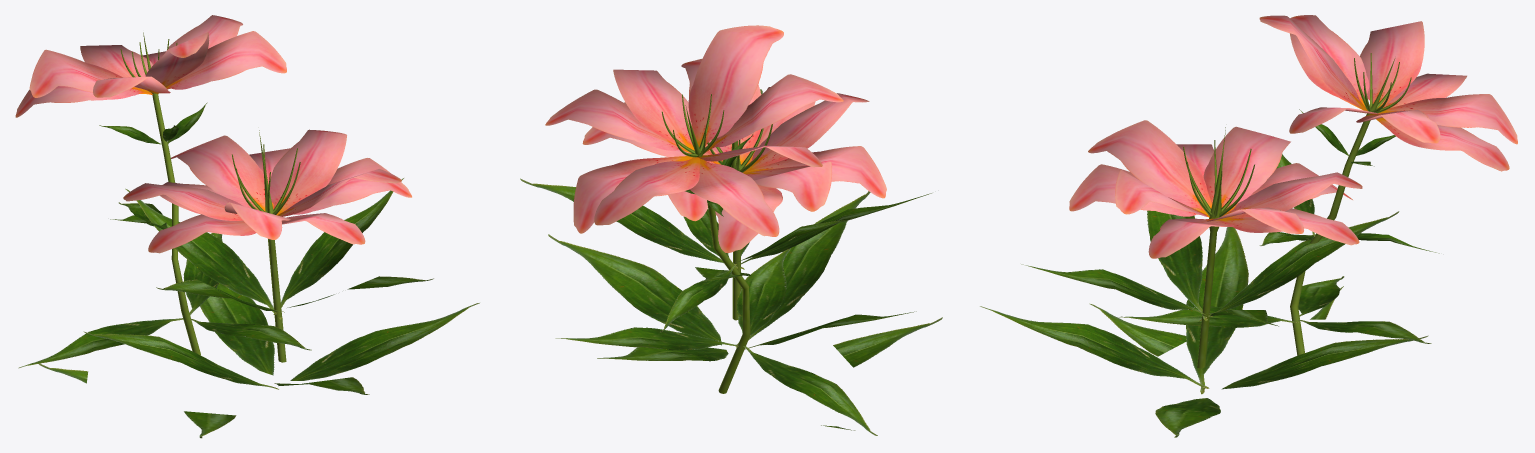
3 views of the same model, side by side, from view 1: azimuth 30°, elevation 25°; view 2: azimuth 150°, elevation 25°; view 3: azimuth 270°, elevation 25° (orthographic). The views are drawn at different scales.
Parts seen in each view (by area): view 1: b58f68ed; view 2: b58f68ed; view 3: b58f68ed.
Part boxes in pixels (left/top/right/bottom): b58f68ed: left=15, top=15, right=479, bottom=438; b58f68ed: left=520, top=25, right=942, bottom=435; b58f68ed: left=980, top=15, right=1517, bottom=437.
Size of the model in its own units: 0.1757 by 0.1455 by 0.2044.
4 materials, 3 textured.
